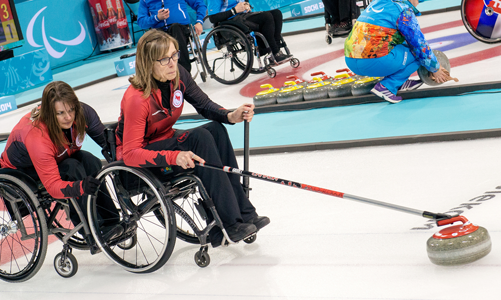person: (114, 24, 213, 173), (19, 81, 110, 177)
wheelchair: (88, 166, 207, 279), (1, 199, 80, 277)
